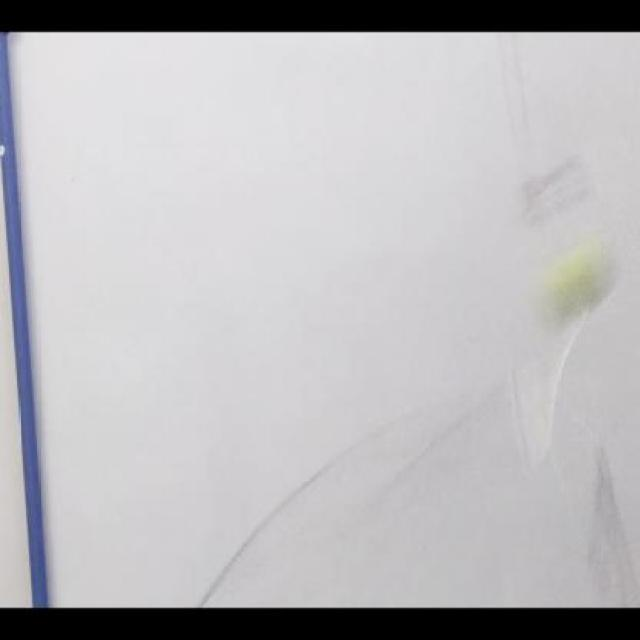baseball: (532, 242, 616, 318)
